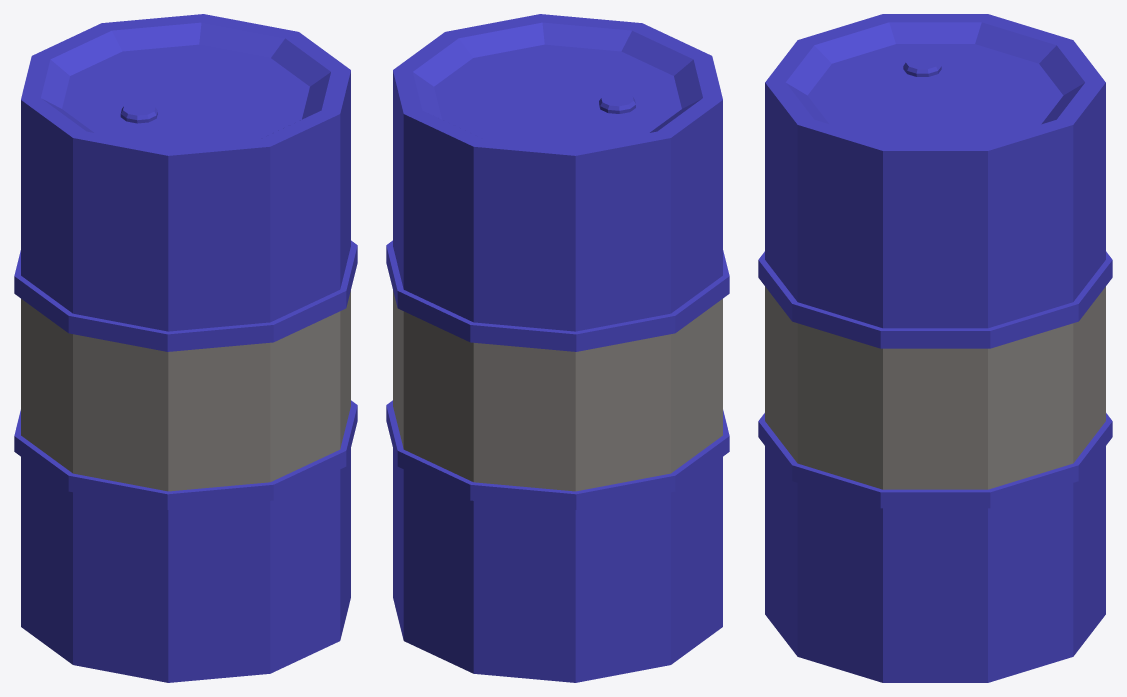
Rendered from MetalBarrelBlue.fbx.
The picture shows the model from 3 angles, left to right: view 1: azimuth 30°, elevation 25°; view 2: azimuth 150°, elevation 25°; view 3: azimuth 270°, elevation 25°; orthographic projection.
Visible parts, largest first — view 1: MetalBarrel.001; view 2: MetalBarrel.001; view 3: MetalBarrel.001.
Part boxes in pixels (x1=…): MetalBarrel.001: x1=14, y1=14, x2=357, y2=682; MetalBarrel.001: x1=386, y1=14, x2=729, y2=682; MetalBarrel.001: x1=758, y1=14, x2=1112, y2=682.
Size of the model in its own units: 46.78 by 81.49 by 49.19.
